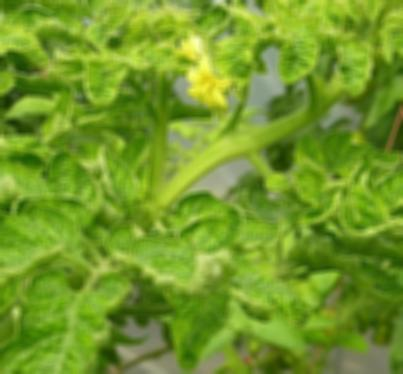Tomato leaf yellow virus: (0, 265, 127, 374), (172, 179, 287, 275), (104, 226, 202, 300), (20, 147, 110, 226), (0, 210, 77, 302), (86, 150, 149, 213), (322, 35, 369, 105), (270, 32, 324, 89), (79, 58, 137, 107), (0, 22, 56, 67)
